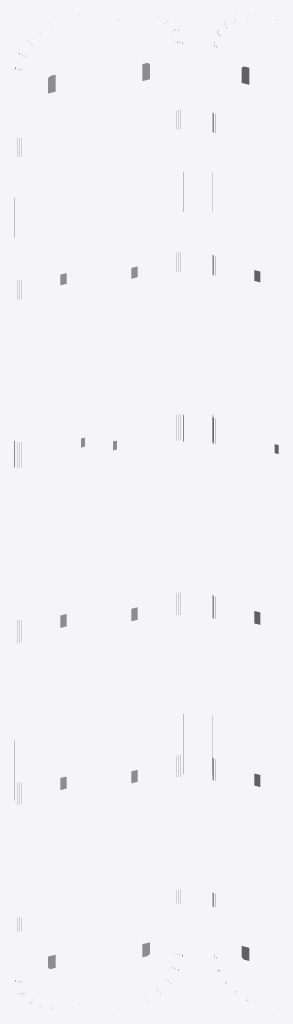
Rendered from NAKA-Experience_First.glb.
3 renders of one model, left to right at view 1: azimuth 30°, elevation 25°; view 2: azimuth 210°, elevation 25°; view 3: azimuth 330°, elevation 25°, orthographic.
Parts seen in each view (by area): view 1: Naka_Card01_009.004; view 2: Naka_Card01_009.004; view 3: Naka_Card01_009.004.
Boxes of the visible parts, x1,y1,x2,y2 form: Naka_Card01_009.004: [14, 14, 84, 1009]; Naka_Card01_009.004: [113, 14, 183, 1009]; Naka_Card01_009.004: [212, 14, 278, 1009].
Size of the model in its own units: 0.0133 by 0.1844 by 0.000924.
1 material, 1 textured.
